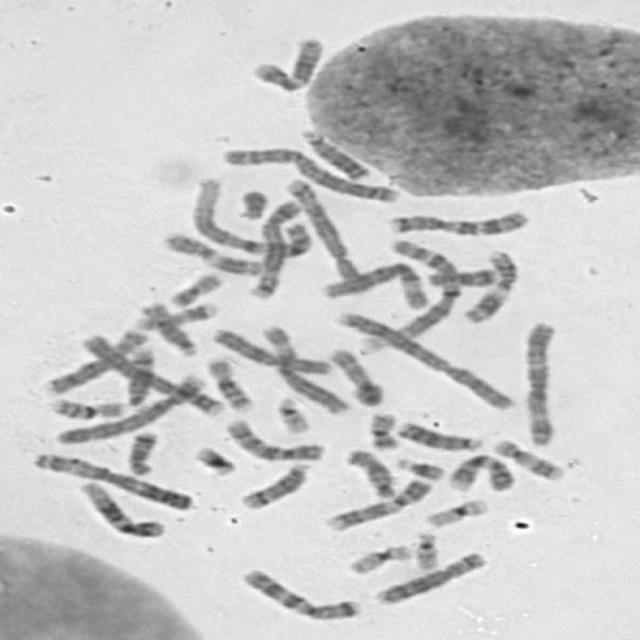A1: (351, 234, 464, 358), (184, 173, 315, 258)
A2: (330, 308, 517, 410), (216, 144, 403, 204)
A3: (26, 447, 198, 513), (519, 316, 563, 447)
B4: (74, 328, 230, 418), (47, 369, 208, 446)
B5: (280, 173, 365, 284), (245, 194, 308, 299)
C10: (218, 414, 328, 463), (323, 343, 386, 408)
C11: (158, 228, 266, 277), (456, 245, 520, 325)
C12: (73, 476, 168, 539), (246, 32, 328, 94)
C6: (255, 320, 354, 416), (315, 257, 433, 311)
C7: (236, 564, 366, 623), (383, 206, 533, 237)
C8: (38, 325, 150, 395), (371, 547, 492, 606)
C9: (319, 474, 437, 533), (440, 450, 518, 493)
D13: (295, 124, 374, 182), (391, 417, 485, 452)
D14: (235, 457, 314, 511), (122, 342, 160, 408)
D15: (136, 298, 200, 358), (339, 446, 399, 500)
E16: (201, 354, 258, 413), (43, 393, 129, 421)
E17: (488, 435, 568, 482), (132, 298, 220, 331)
E18: (120, 426, 162, 477), (422, 264, 500, 288)
F19: (343, 540, 416, 576), (420, 494, 491, 528)
F20: (164, 268, 227, 308), (362, 408, 404, 451)
G21: (189, 442, 240, 477), (391, 453, 447, 482)
G22: (270, 392, 314, 434), (409, 527, 443, 571)
X: (206, 324, 335, 375)
Y: (232, 185, 271, 221)
